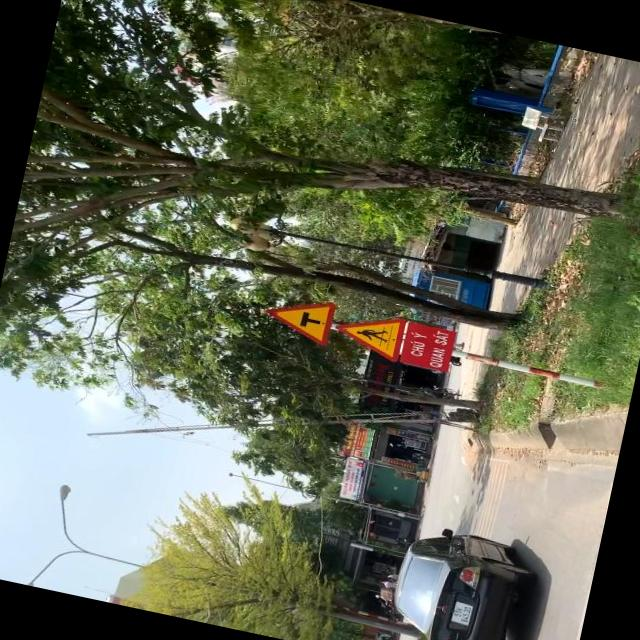W-205d: (260, 288, 340, 349)
W-224: (331, 304, 408, 361)
